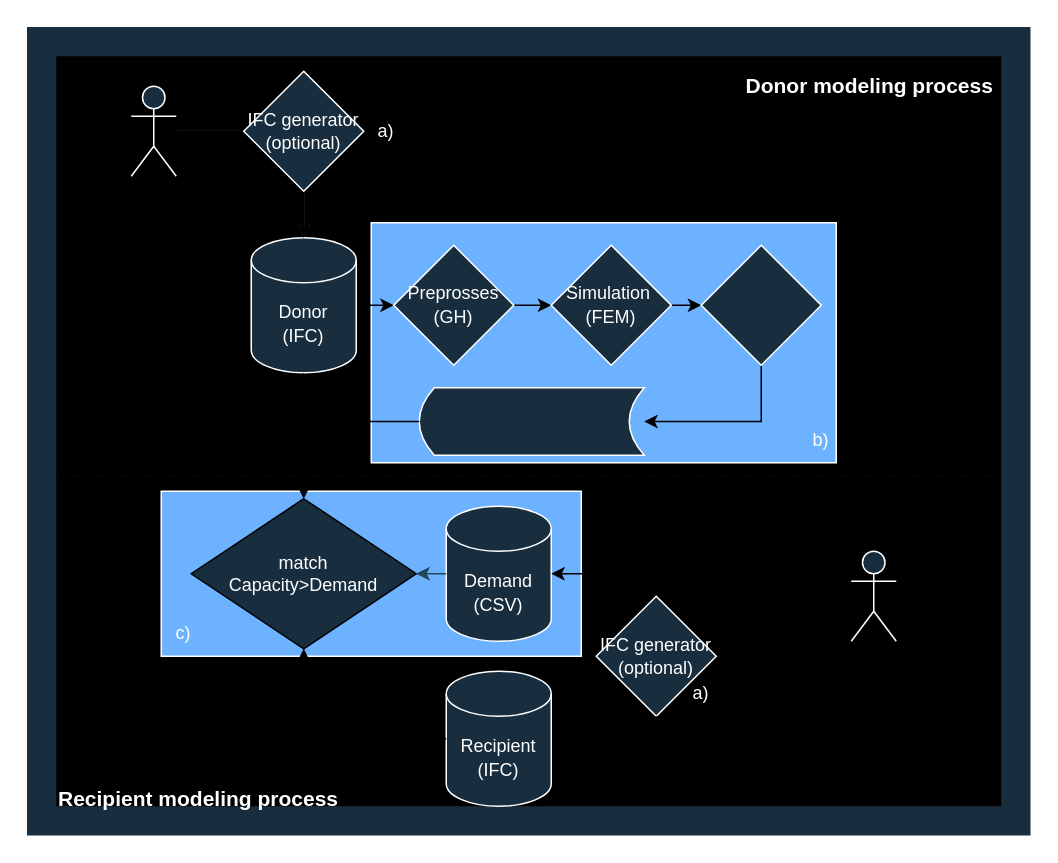
Image size: 1058x863. Some labels were removed from this diagram. The shapes that lost their labels are listed below. From the top down, each one's centre as x and y in pixels, then its label:
At (x=153, y=130): "An actor models a donor building".
At (x=760, y=304): "Postproces (GH)".
At (x=531, y=420): "element entity bending and shear capacity".
At (x=873, y=595): "An actor models a recipient building and defines minimum demand requirements".
